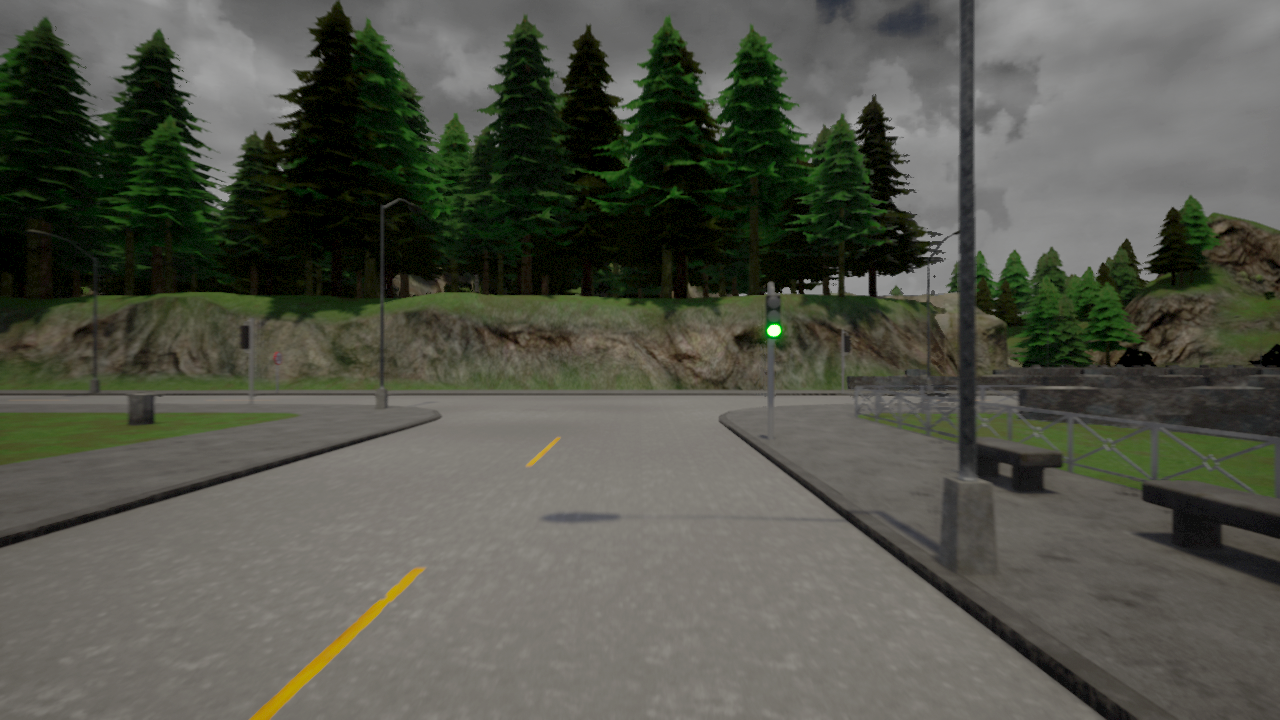green: (765, 294, 785, 338)
